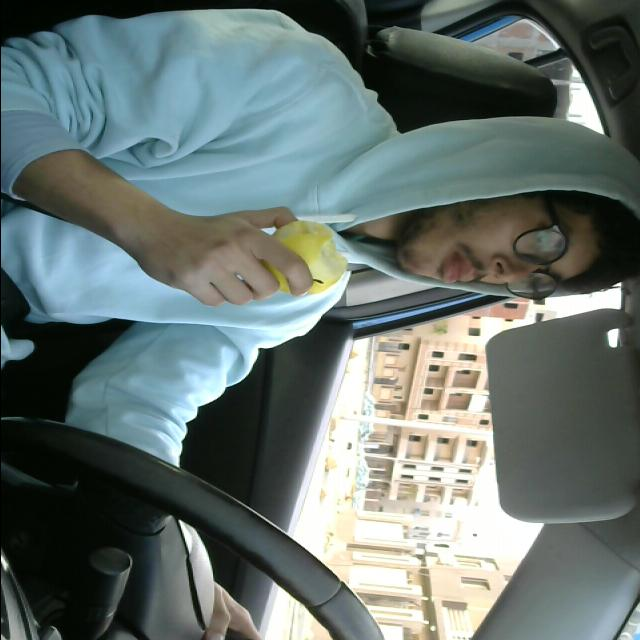eating: (262, 214, 354, 296)
